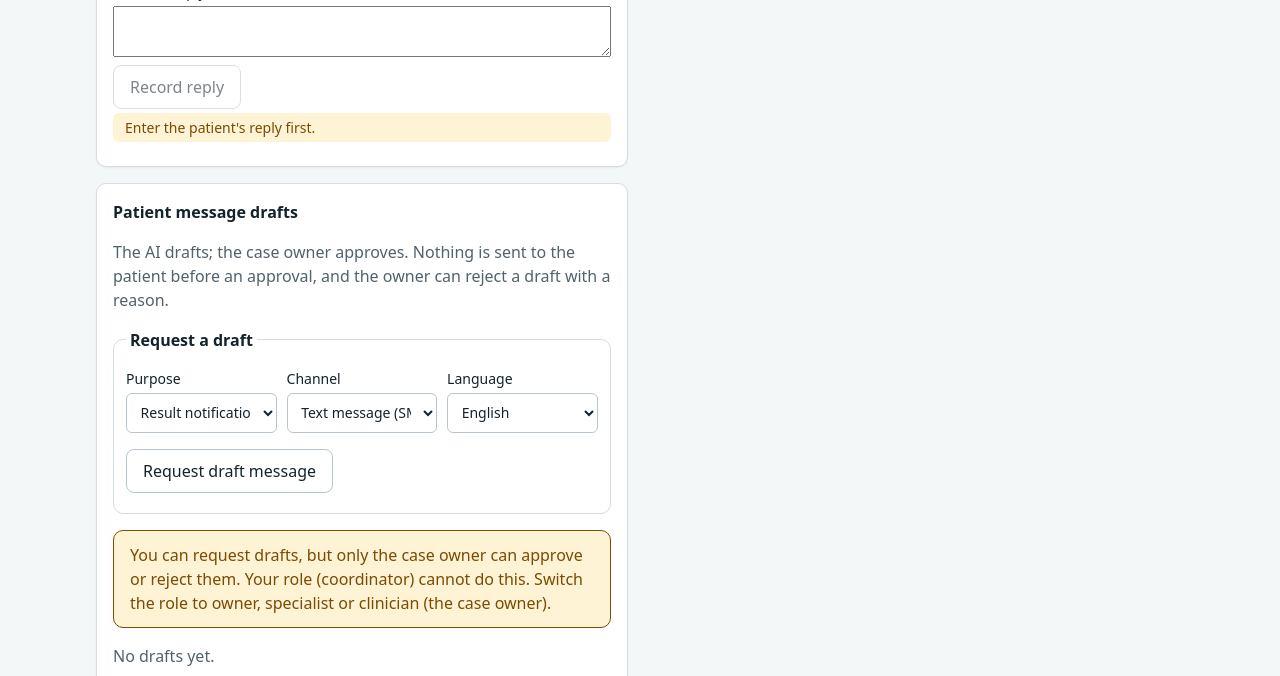
Test: C10: requesting a draft › an appointment confirmation without a booked date is refused by the engine and the reason is shown
(page scrolled)
Select "Appointment confirmation" in the dropdown labelled "Purpose": (201, 413) [126,393,277,433]
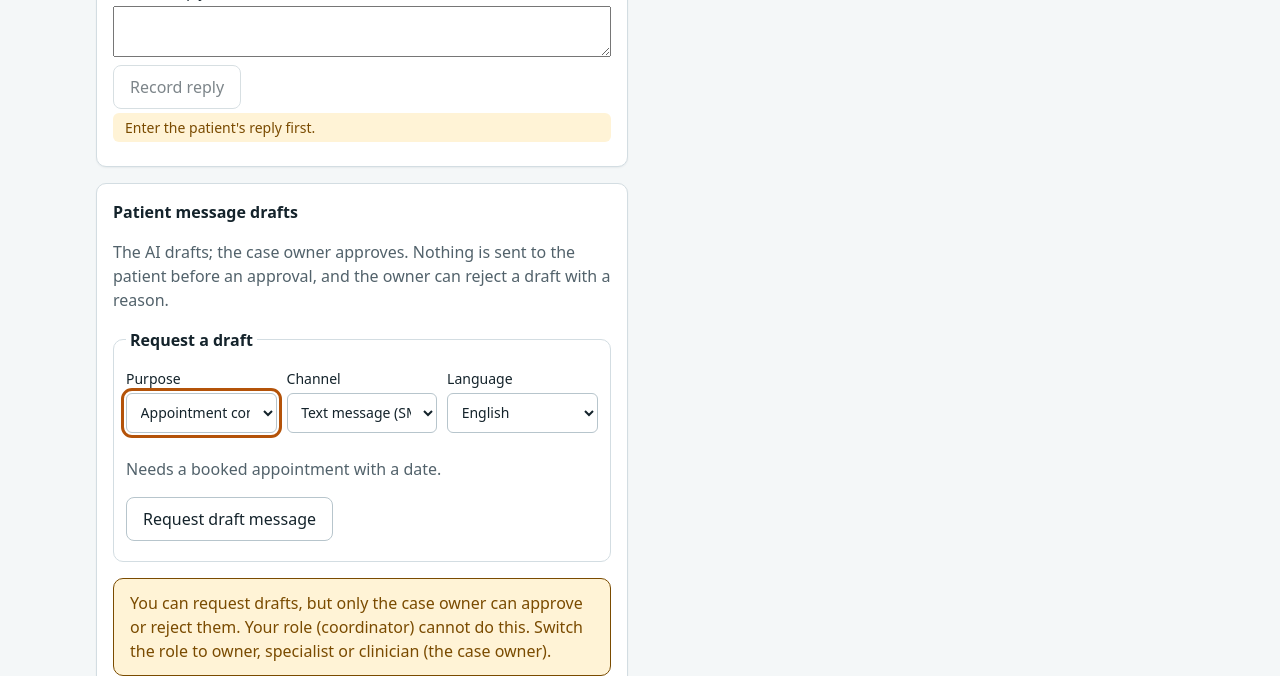
Check: the text "Needs a booked appointment with a date." is shown, box [126,458,441,480]
Click the button with test id "request-draft": click(230, 519) [126,497,333,541]
(page scrolled)
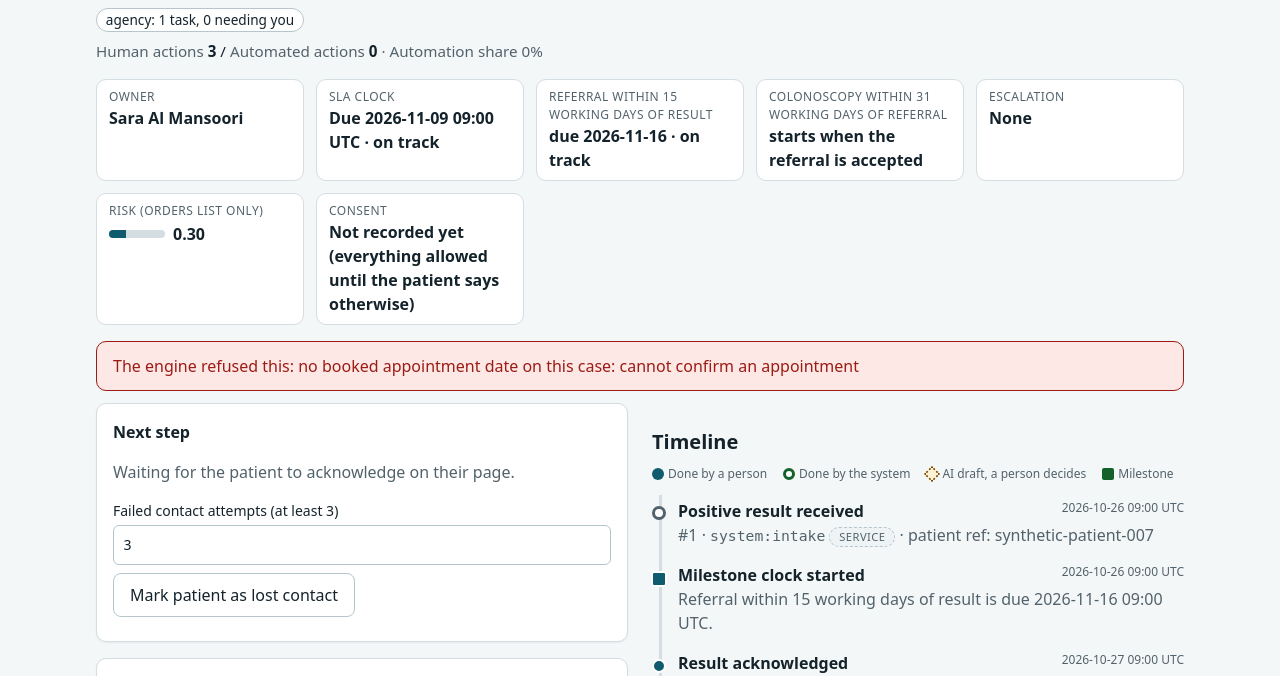
Check: the message shows "no booked appointment date", box [113,355,859,377]
